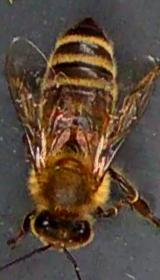varroa_mite: (45, 105, 67, 125)
